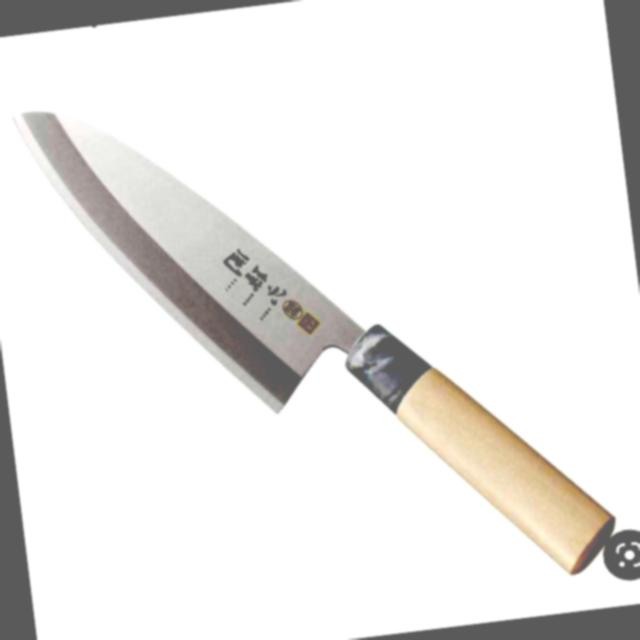knife: (0, 89, 640, 591)
